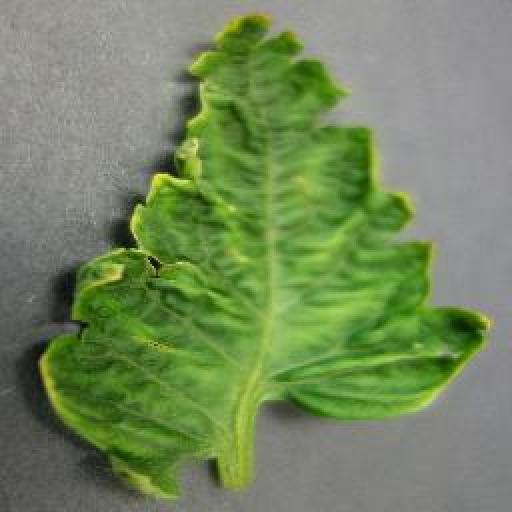Yellow Leaf Curl Virus: (34, 10, 493, 498)
